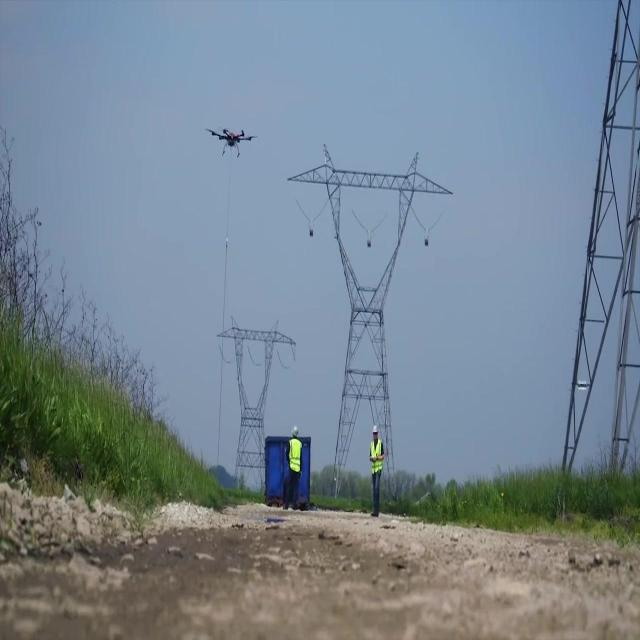drone: (204, 122, 261, 161)
